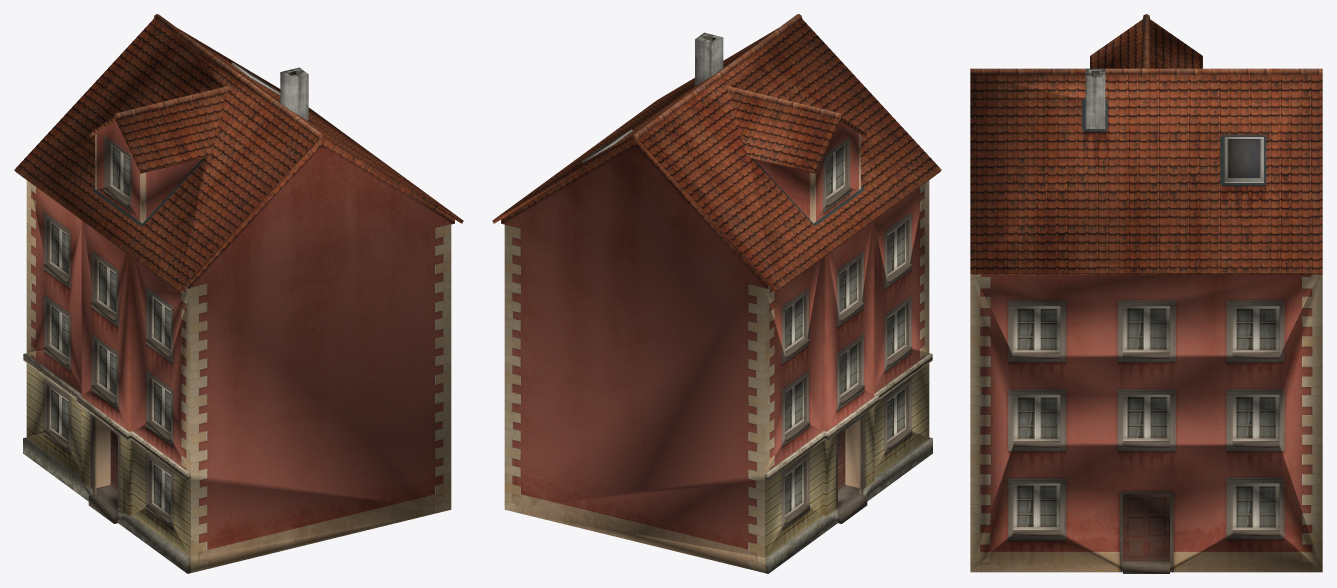
The model's file is apartmenthouseF.obj.
3 views of the same model, side by side, from view 1: azimuth 30°, elevation 25°; view 2: azimuth 150°, elevation 25°; view 3: azimuth 270°, elevation 25° (orthographic). The views are drawn at different scales.
Visible parts, largest first — view 1: Default; view 2: Default; view 3: Default.
Part boxes in pixels (x1,y1,x2,y2): Default: [14, 14, 463, 573]; Default: [492, 14, 941, 573]; Default: [970, 14, 1322, 573].
Bounding box in the file's own units: 9 × 12.6 × 9.
Materials: 1 (1 with a texture image).
